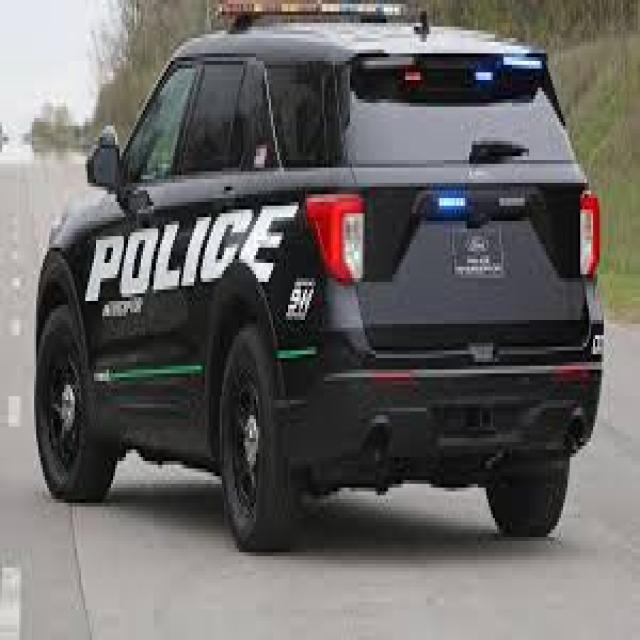cop: (33, 0, 606, 559)
